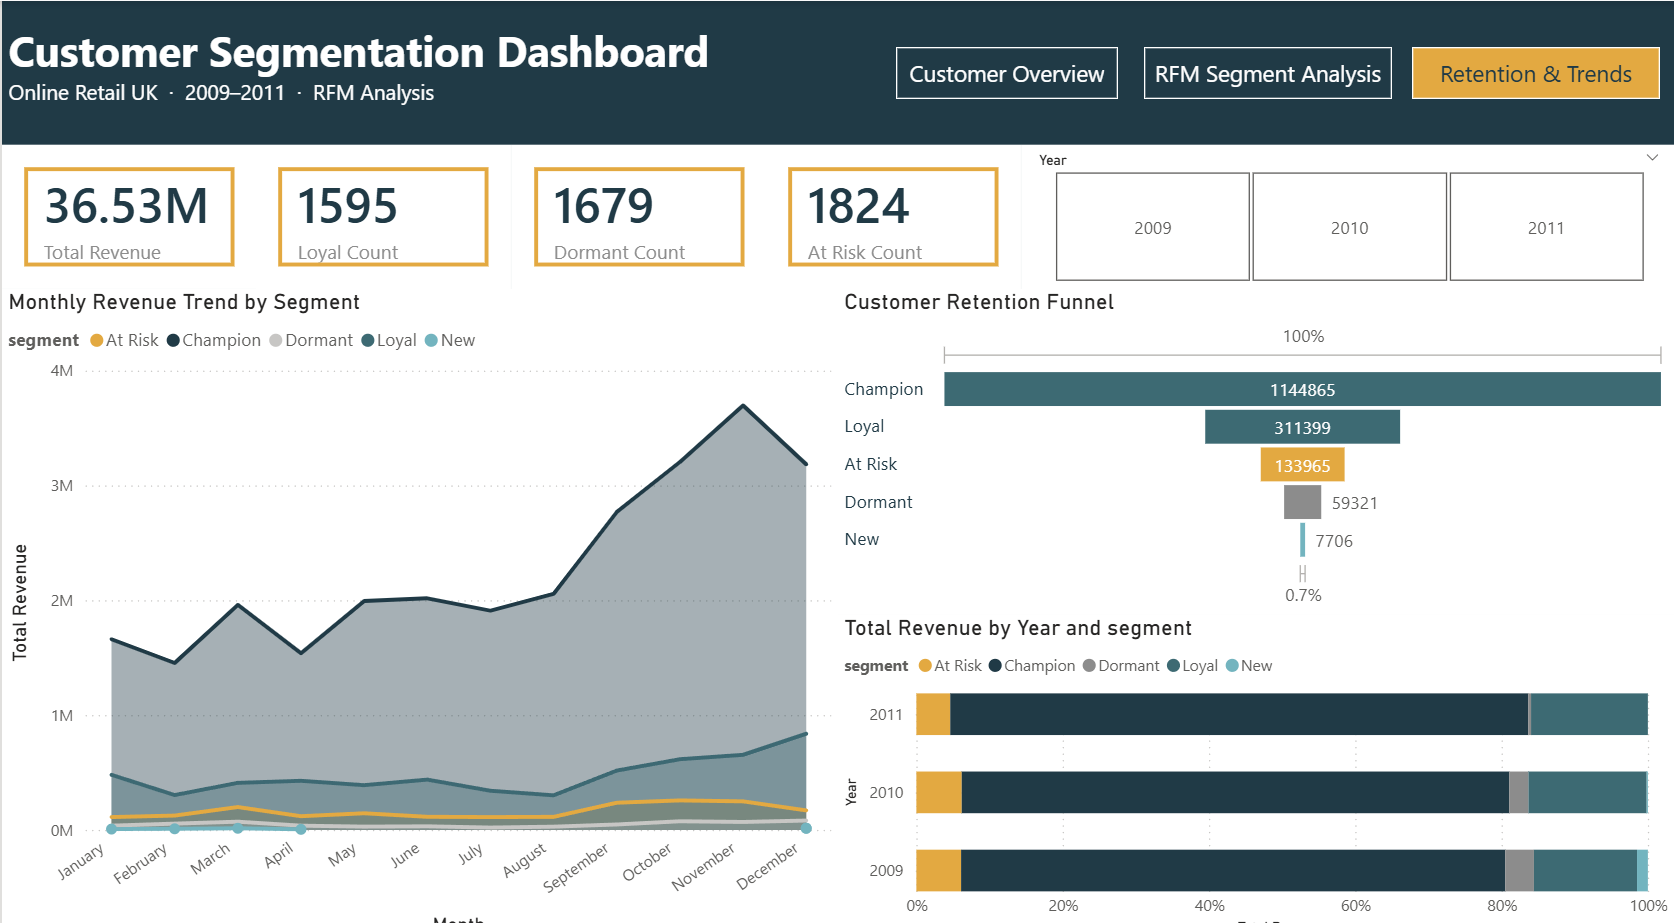

The page's visual inventory and layout, read from the dashboard file:
{"tool":"powerbi","page":{"name":"Retention & Trends","canvas":[1280,720],"ordinal":2},"visuals":[{"type":"shape","box":[0,0,1280,110],"z":0},{"type":"textbox","box":[0,10,1280,136],"z":1000},{"type":"actionButton","box":[684.4,35.2,170,39.8],"z":2000},{"type":"actionButton","box":[874.3,35.2,189.9,39.8],"z":3000},{"type":"actionButton","box":[1079.4,35.2,189.9,39.8],"z":4000},{"type":"cardVisual","fields":{"Data":["rfm_segments.Total Revenue"]},"box":[0,110.2,195,110.2],"z":5000},{"type":"cardVisual","fields":{"Data":["rfm_segments.Loyal Count"]},"box":[195,110,195,110.9],"z":6000},{"type":"cardVisual","fields":{"Data":["rfm_segments.Dormant Count"]},"box":[390,110,195,110.9],"z":7000},{"type":"cardVisual","fields":{"Data":["rfm_segments.At Risk Count"]},"box":[585,110,195,110.9],"z":8000},{"type":"areaChart","title":"Monthly Revenue Trend by Segment","fields":{"Y":["rfm_segments.Total Revenue"],"Series":["rfm_segments.segment"],"Category":["orders.invoice_date.Variation.Date Hierarchy.Year","orders.invoice_date.Variation.Date Hierarchy.Month"]},"box":[0,220.5,640,499.1],"z":9000},{"type":"funnel","title":"Customer Retention Funnel","fields":{"Category":["rfm_segments.segment"],"Y":["CountNonNull(orders.customer_id)"]},"box":[640,220.5,640,249.6],"z":10000},{"type":"slicer","fields":{"Values":["orders.invoice_date.Variation.Date Hierarchy.Year"]},"box":[780.2,110,500,110.9],"z":12001},{"type":"hundredPercentStackedBarChart","fields":{"Y":["rfm_segments.Total Revenue"],"Series":["rfm_segments.segment"],"Category":["orders.invoice_date.Variation.Date Hierarchy.Year"]},"box":[640,470,640,249.6],"z":12002}]}

Visuals, with their boxes in screenshot pixels (x1, y1, x2, y2), scaled from the page's 1280x720 canvas onto the 1674x923 screenshot:
shape: BBox(0, 0, 1673, 141)
textbox: BBox(0, 13, 1673, 187)
actionButton: BBox(895, 45, 1117, 96)
actionButton: BBox(1143, 45, 1392, 96)
actionButton: BBox(1412, 45, 1660, 96)
cardVisual - rfm_segments.Total Revenue: BBox(0, 141, 255, 283)
cardVisual - rfm_segments.Loyal Count: BBox(255, 141, 510, 283)
cardVisual - rfm_segments.Dormant Count: BBox(510, 141, 765, 283)
cardVisual - rfm_segments.At Risk Count: BBox(765, 141, 1020, 283)
"Monthly Revenue Trend by Segment" areaChart: BBox(0, 283, 837, 922)
"Customer Retention Funnel" funnel: BBox(837, 283, 1673, 603)
slicer - orders.invoice_date.Variation.Date Hierarchy.Year: BBox(1020, 141, 1673, 283)
hundredPercentStackedBarChart - rfm_segments.Total Revenue x rfm_segments.segment: BBox(837, 603, 1673, 922)
